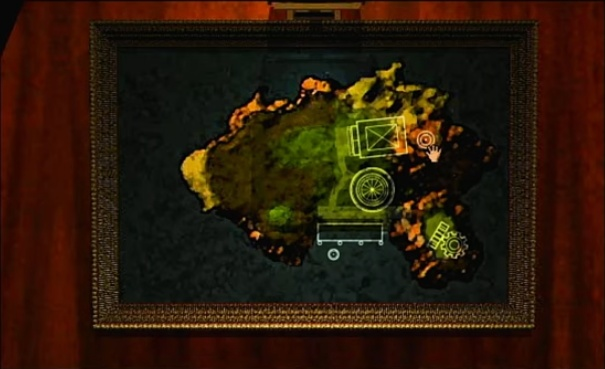Pointer: (420, 143, 446, 164)
